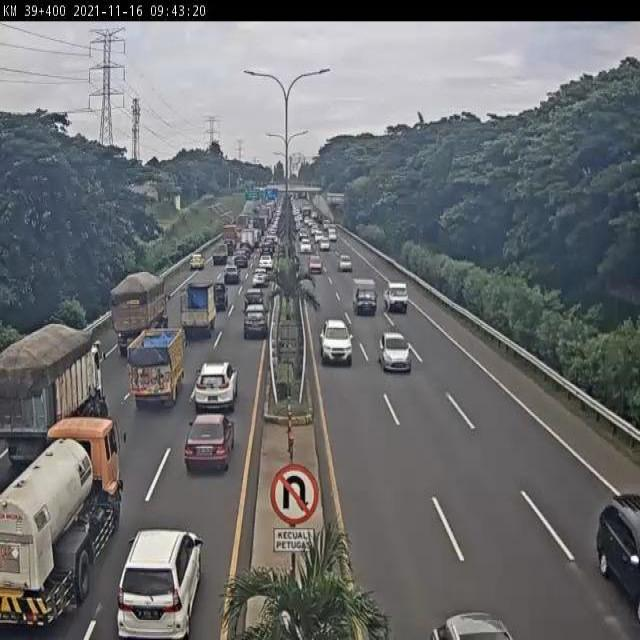car: (128, 527, 190, 637), (595, 490, 640, 626), (422, 580, 501, 640), (186, 416, 236, 487), (198, 352, 239, 409), (320, 320, 353, 367), (378, 333, 409, 376), (384, 281, 410, 316), (246, 307, 266, 344), (210, 278, 226, 314), (184, 251, 206, 273), (246, 286, 261, 314), (224, 263, 239, 289), (308, 248, 323, 271), (331, 245, 348, 264), (253, 269, 265, 292), (260, 253, 271, 271), (303, 233, 306, 247)
small truck: (348, 277, 378, 320), (213, 243, 226, 264)
truck-l-: (0, 322, 110, 474), (106, 270, 173, 362)
truck-m-: (0, 411, 130, 629), (126, 327, 188, 416), (180, 279, 217, 340)
